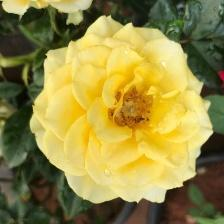rose: (28, 14, 218, 208)
